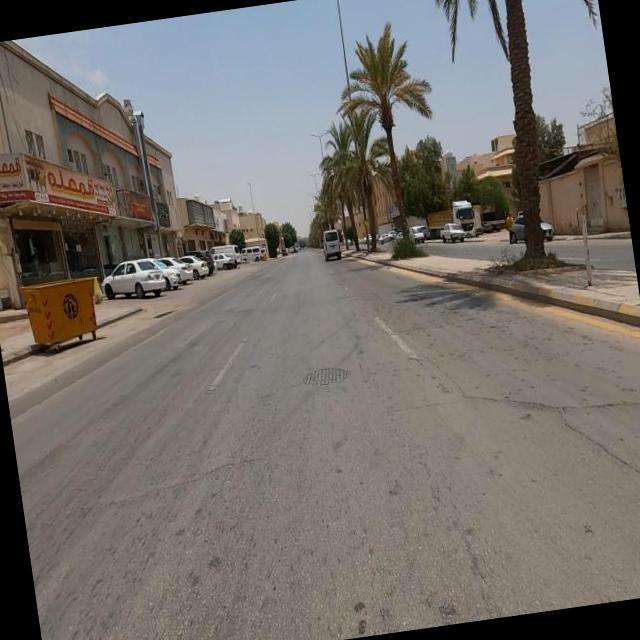debris: (152, 158, 252, 262)
